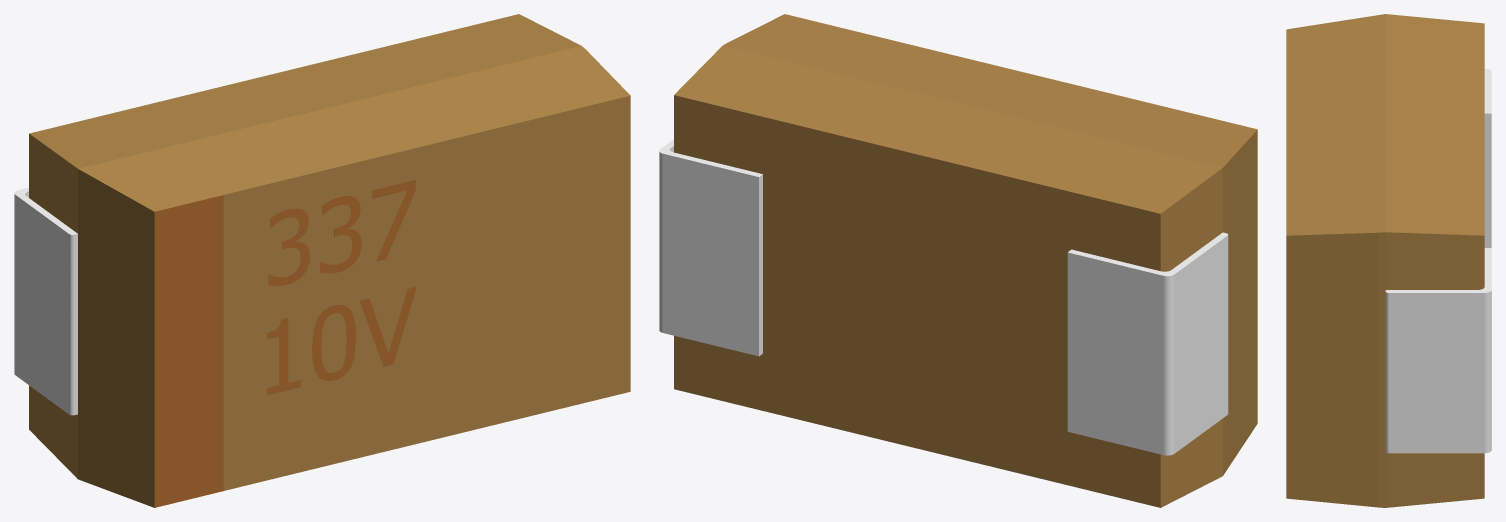
The model's file is tantalum 330uF.obj.
The picture shows the model from 3 angles, left to right: view 1: azimuth 30°, elevation 25°; view 2: azimuth 150°, elevation 25°; view 3: azimuth 270°, elevation 25°; orthographic projection. The views are drawn at different scales.
Parts seen in each view (by area): view 1: tantalum_330uF; view 2: tantalum_330uF; view 3: tantalum_330uF.
Part boxes in pixels (box(x1,y1,x2,y2)): tantalum_330uF: box(14, 14, 630, 507); tantalum_330uF: box(659, 14, 1257, 507); tantalum_330uF: box(1286, 14, 1491, 507).
Bounding box in the file's own units: 0.0187 × 0.0107 × 0.00724.
